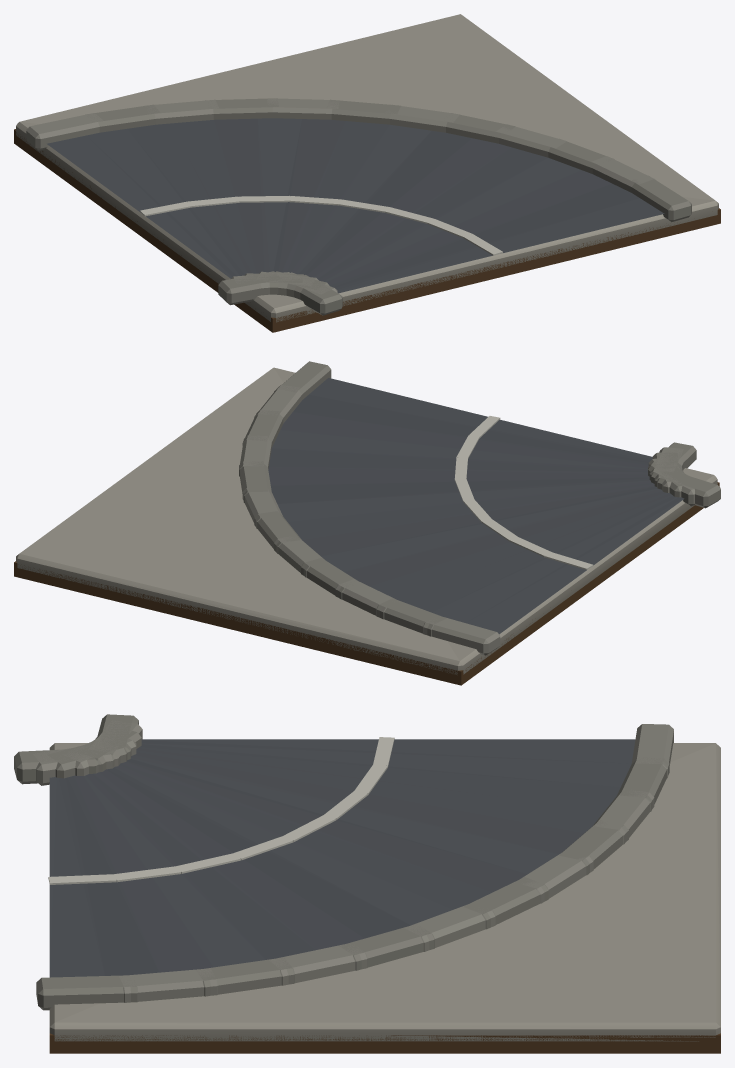
Rendered from road-corner-01.glb.
The picture shows the model from 3 angles, top to bottom: view 1: azimuth 30°, elevation 25°; view 2: azimuth 150°, elevation 25°; view 3: azimuth 270°, elevation 25°; orthographic projection. The views are drawn at different scales.
Visible parts, largest first — view 1: road_corner_01; view 2: road_corner_01; view 3: road_corner_01.
Part boxes in pixels (bbox=[...]): road_corner_01: bbox=[14, 14, 720, 332]; road_corner_01: bbox=[14, 361, 720, 685]; road_corner_01: bbox=[14, 714, 720, 1053].
Bounding box in the file's own units: 4.21 × 0.28 × 4.21.
